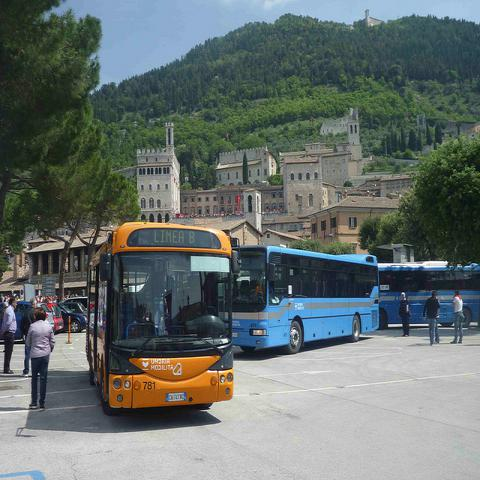bus: (83, 220, 240, 412), (231, 246, 380, 356), (381, 263, 455, 326)
car: (59, 301, 87, 333), (13, 302, 30, 342), (37, 302, 55, 333), (61, 302, 88, 322), (48, 302, 63, 330), (64, 296, 89, 312)
